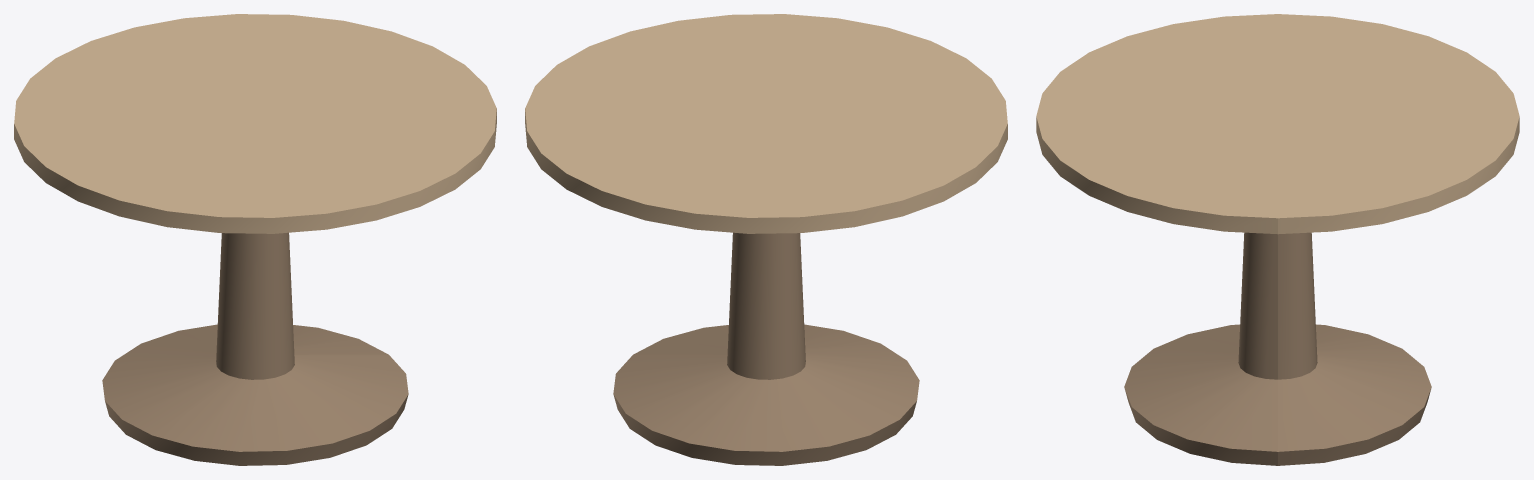
The model's file is dining-round-4.glb.
3 views of the same model, side by side, from view 1: azimuth 30°, elevation 25°; view 2: azimuth 150°, elevation 25°; view 3: azimuth 270°, elevation 25° (orthographic).
Visible parts, largest first — view 1: dining-table-round-4seat; view 2: dining-table-round-4seat; view 3: dining-table-round-4seat.
Boxes of the visible parts, <box> form: dining-table-round-4seat: <box>14,14,496,465</box>; dining-table-round-4seat: <box>525,14,1007,465</box>; dining-table-round-4seat: <box>1036,14,1519,465</box>.
Size of the model in its own units: 1.1 by 0.72 by 1.1.
